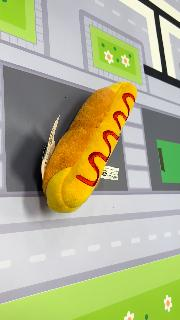hotdog: (42, 80, 138, 214)
